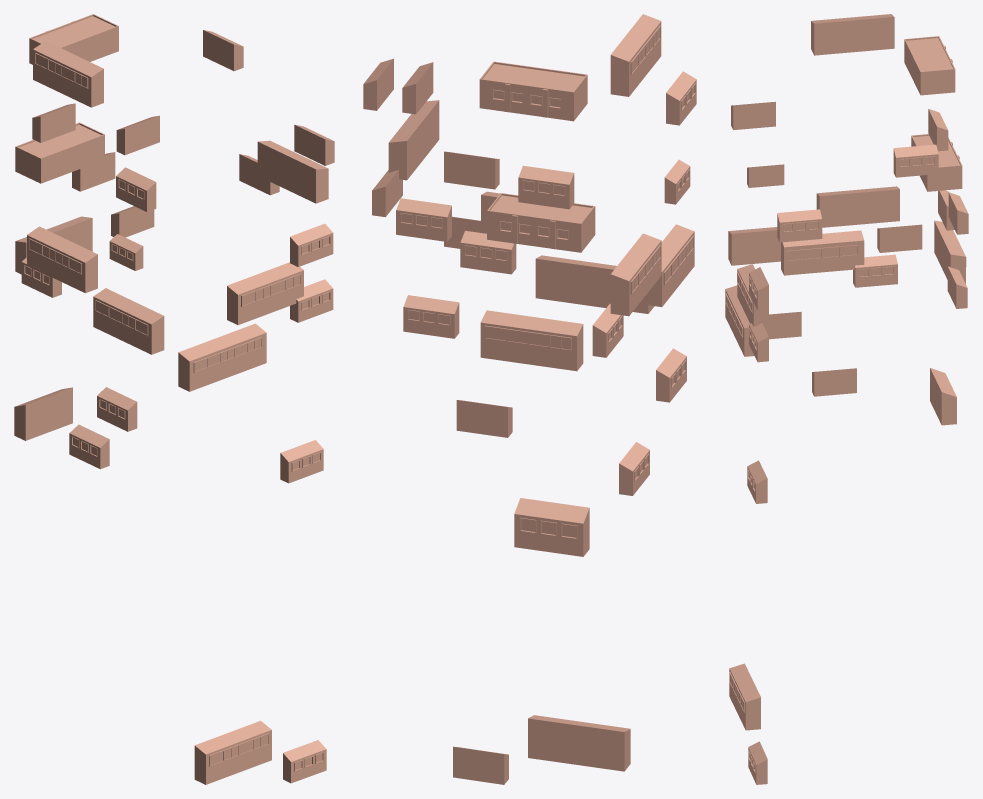
Rendered from maison bidonville 02.fbx.
3 views of the same model, side by side, from view 1: azimuth 30°, elevation 25°; view 2: azimuth 150°, elevation 25°; view 3: azimuth 270°, elevation 25° (orthographic). The views are drawn at different scales.
Parts seen in each view (by area): view 1: Cube.610, Cube.345, Cube.543, Cube.416, Cube.626, Cube.339, Cube.132, Cube.124, Cube.114, Cube.645, Cube.118, Cube.265 (+21 smaller); view 2: Cube.626, Cube.610, Cube.416, Cube.534, Cube.645, Cube.345, Cube.543, Cube.114, Cube.124, Cube.628, Cube.536, Cube.064 (+15 smaller); view 3: Cube.124, Cube.114, Cube.626, Cube.543, Cube.132, Cube.610, Cube.416, Cube.548, Cube.545, Cube.547, Cube.534, Cube.645 (+15 smaller).
Boxes of the visible parts, x1,y1,x2,y2 form: Cube.610: (15, 122, 104, 183); Cube.345: (178, 323, 266, 391); Cube.543: (257, 140, 328, 203); Cube.416: (194, 720, 271, 784); Cube.626: (29, 14, 118, 64); Cube.339: (227, 262, 303, 324); Cube.132: (93, 288, 164, 354); Cube.124: (33, 41, 103, 107); Cube.114: (27, 226, 97, 293); Cube.645: (14, 387, 72, 440); Cube.118: (283, 740, 326, 783); Cube.265: (280, 440, 323, 483); Cube.626: (479, 61, 587, 121); Cube.610: (487, 193, 595, 252); Cube.416: (528, 715, 630, 771); Cube.534: (480, 310, 583, 371); Cube.645: (514, 498, 589, 556); Cube.345: (535, 255, 654, 313); Cube.543: (388, 100, 439, 180); Cube.114: (610, 233, 661, 316); Cube.124: (610, 14, 661, 96); Cube.628: (518, 165, 574, 209); Cube.536: (403, 295, 459, 338); Cube.064: (396, 198, 451, 241); Cube.124: (811, 14, 894, 55); Cube.114: (816, 186, 899, 227); Cube.626: (904, 36, 955, 95); Cube.543: (781, 230, 864, 275); Cube.132: (728, 227, 780, 265); Cube.610: (911, 134, 962, 191); Cube.416: (729, 663, 760, 730); Cube.548: (893, 144, 938, 177); Cube.545: (777, 209, 822, 242); Cube.547: (853, 254, 897, 287); Cube.534: (934, 220, 965, 283); Cube.645: (930, 368, 956, 425).
Size of the model in its own units: 3880 by 10988 by 3591.
